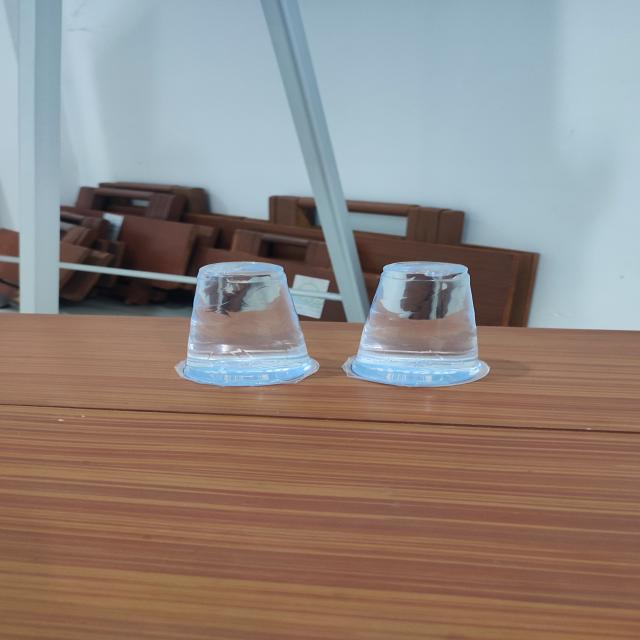air gelas: (164, 257, 323, 392), (350, 258, 500, 393)
